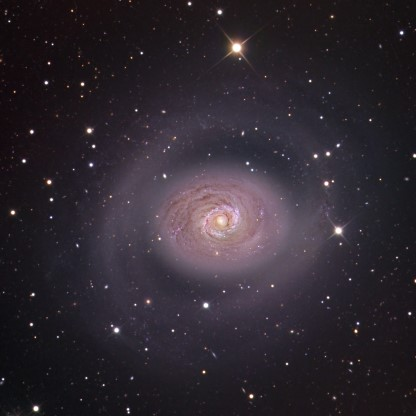Messier 94: (67, 77, 357, 360)
